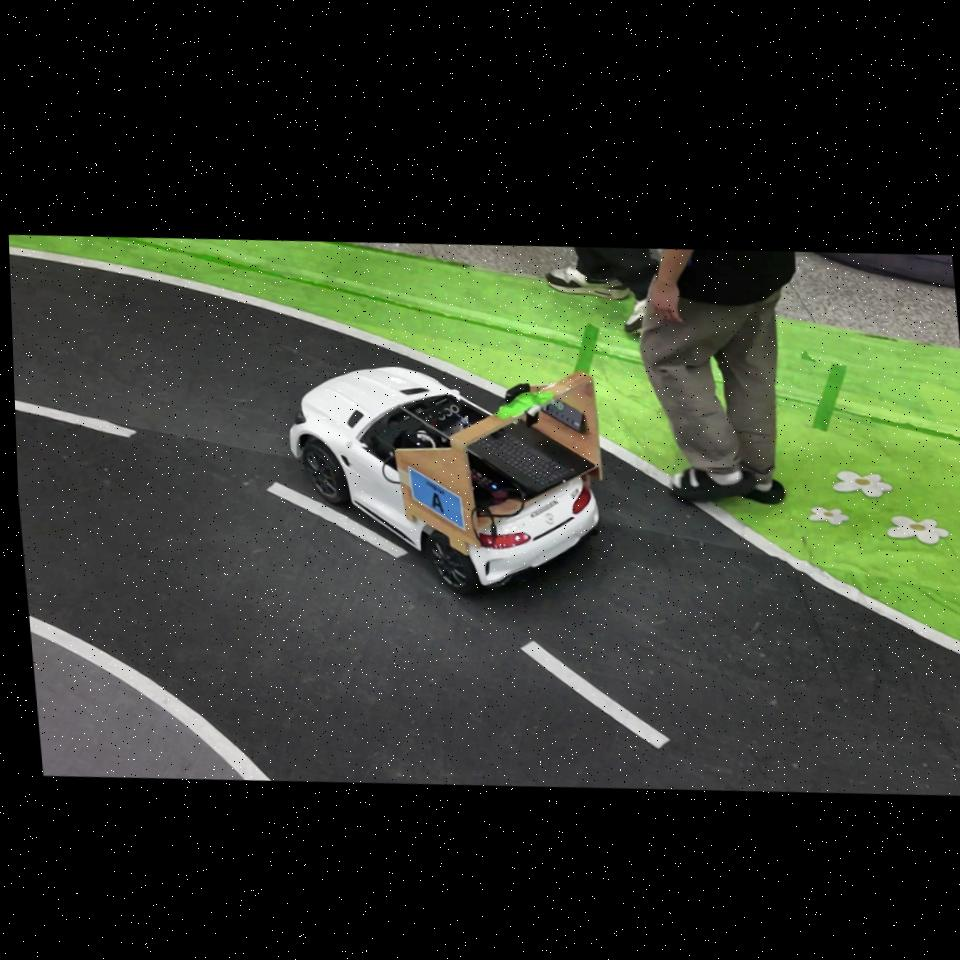broken_line: (520, 641, 671, 749), (265, 482, 408, 559), (15, 400, 137, 438)
